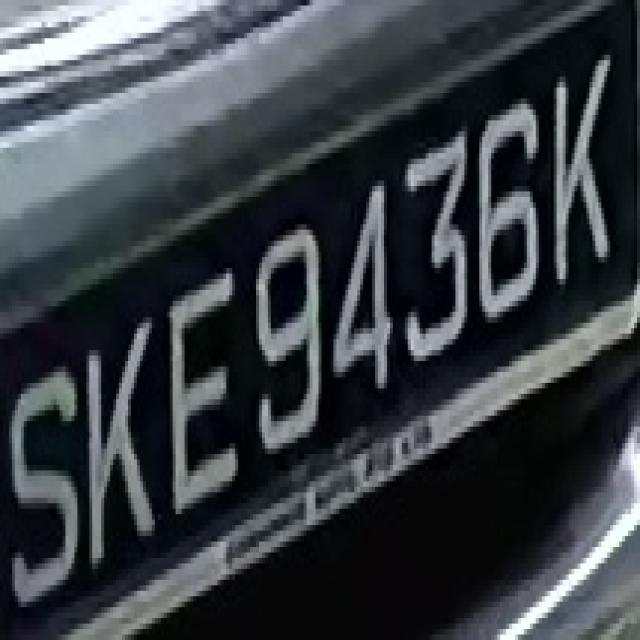3: (408, 110, 479, 366)
4: (327, 153, 402, 438)
6: (473, 71, 536, 312)
9: (244, 197, 328, 448)
E: (161, 252, 244, 530)
K: (80, 295, 155, 580), (545, 55, 619, 284)
S: (12, 350, 86, 624)
